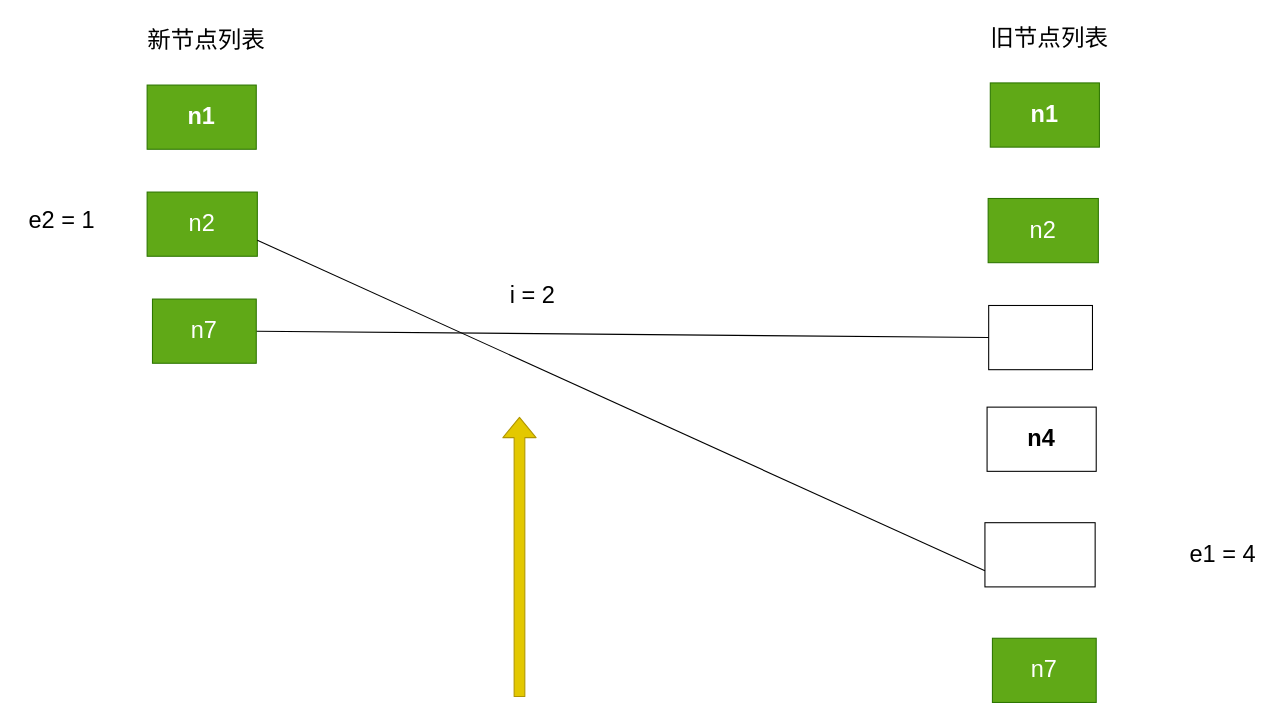
The diagram is 1283 pixels wide and 721 high, and some of its shapes have lost their labels. The centre of each missing label's shape, as x and y in pixels:
n5: pixel 1039 554
n6: pixel 1040 337
